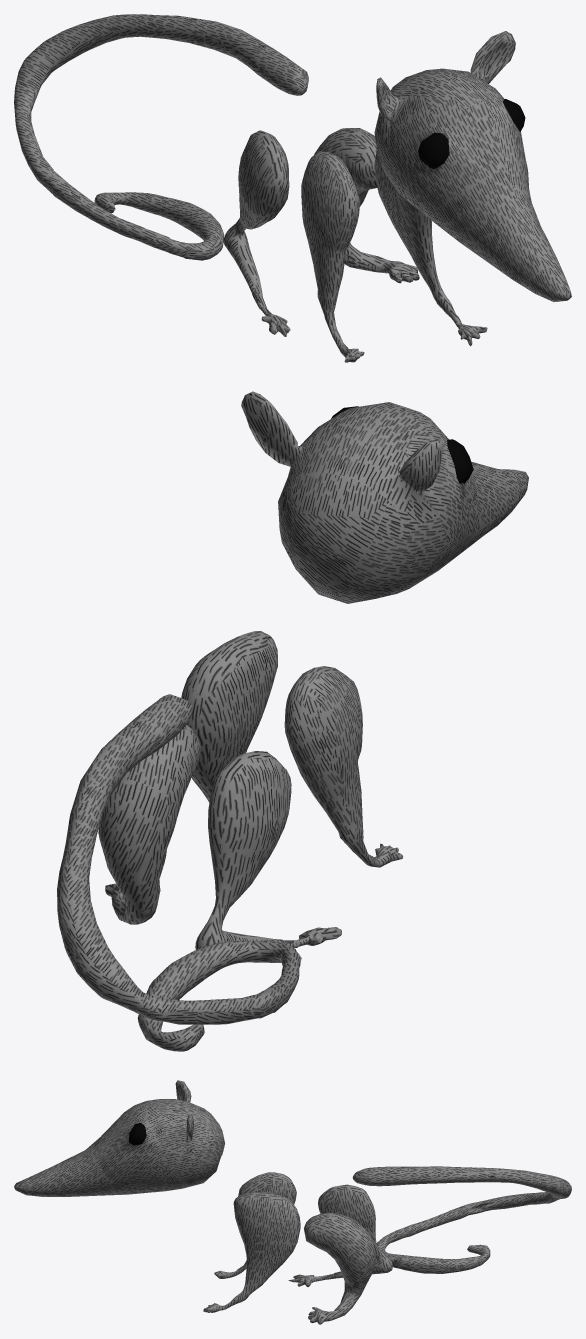
The model's file is ch9_rat.glb.
The picture shows the model from 3 angles, top to bottom: view 1: azimuth 30°, elevation 25°; view 2: azimuth 150°, elevation 25°; view 3: azimuth 270°, elevation 25°; orthographic projection. The views are drawn at different scales.
Visible parts, largest first — view 1: _h9, _r91, _b92, _r93, _b91, _r92; view 2: _h9, _r91, _r92, _r93, _b92, _b91; view 3: _h9, _r91, _b91, _r92, _r93, _b92.
Boxes of the visible parts, x1,y1,x2,y2 form: _h9: [374, 31, 571, 301]; _r91: [14, 14, 308, 260]; _b92: [301, 150, 364, 362]; _r93: [223, 130, 290, 336]; _b91: [374, 150, 487, 346]; _r92: [314, 128, 419, 283]; _h9: [241, 391, 528, 603]; _r91: [57, 694, 301, 1051]; _r92: [98, 725, 200, 924]; _r93: [195, 751, 341, 949]; _b92: [284, 666, 403, 867]; _b91: [181, 631, 277, 802]; _h9: [14, 1080, 224, 1196]; _r91: [352, 1166, 571, 1273]; _b91: [203, 1191, 300, 1312]; _r92: [304, 1212, 375, 1324]; _r93: [288, 1184, 392, 1286]; _b92: [214, 1172, 296, 1278].
Bounding box in the file's own units: 0.8544 × 1.07 × 2.54.
Materials: 2 (1 with a texture image).
